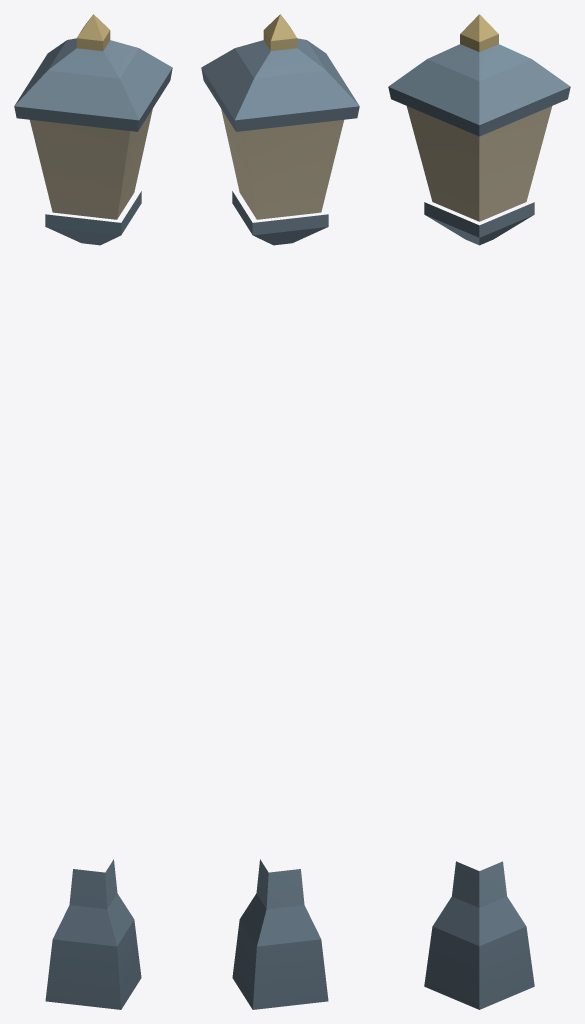
Rendered from lamp.lod2.glb.
3 views of the same model, side by side, from view 1: azimuth 30°, elevation 25°; view 2: azimuth 150°, elevation 25°; view 3: azimuth 270°, elevation 25° (orthographic).
Size of the model in its own units: 0.6599 by 3.88 by 0.6599.
